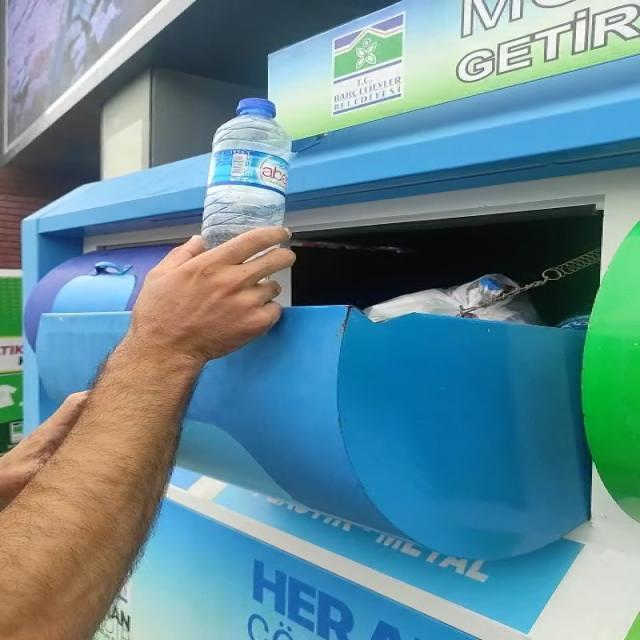Plastic: (203, 98, 291, 244)
